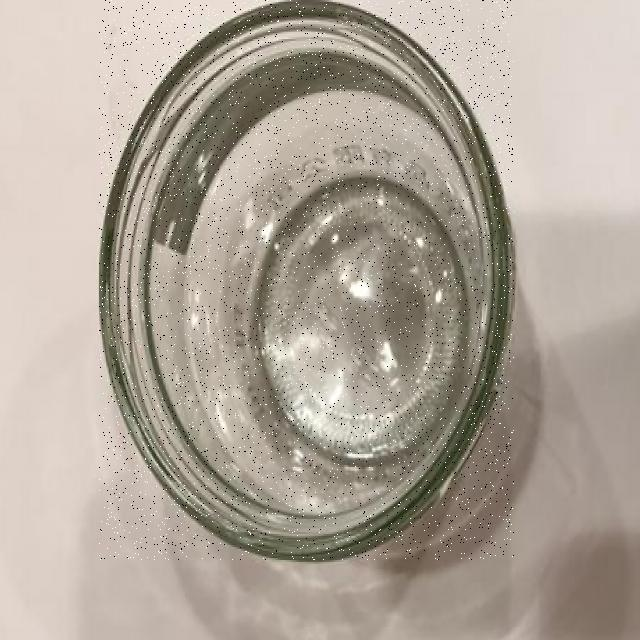glass: (100, 0, 514, 560)
